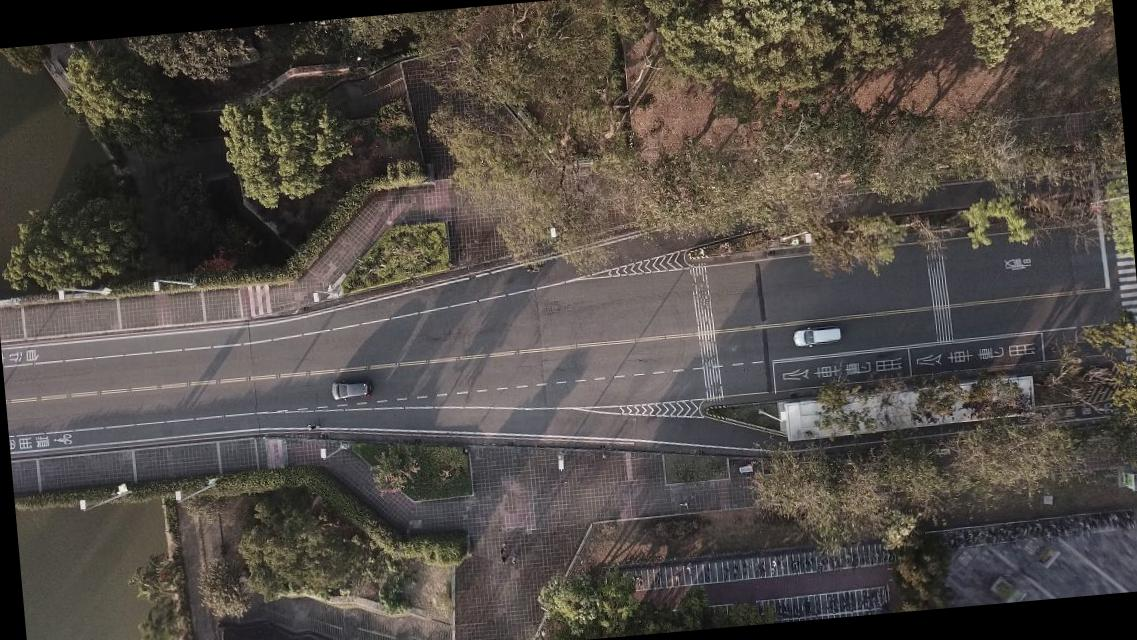vehicle: (792, 324, 841, 348), (330, 378, 372, 402)
